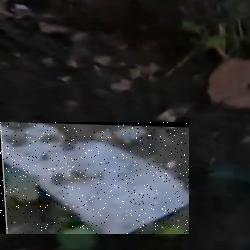restaffald: (0, 122, 189, 234)
